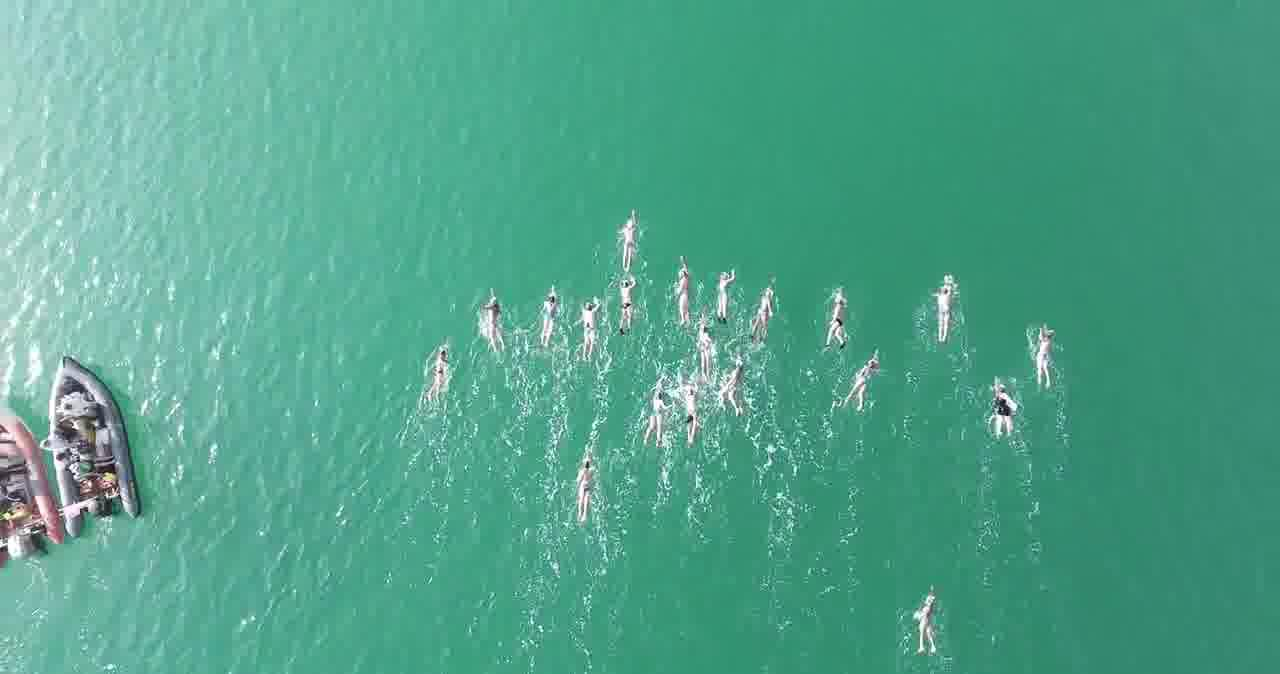human: (472, 288, 519, 348), (416, 340, 458, 404), (562, 455, 602, 516), (1029, 313, 1060, 384), (931, 272, 965, 335), (613, 217, 649, 263), (689, 330, 722, 376), (710, 266, 740, 316), (911, 591, 939, 643), (530, 282, 554, 341), (669, 260, 694, 314), (982, 380, 1007, 430), (680, 385, 702, 437), (761, 279, 781, 336), (848, 360, 877, 398), (728, 352, 748, 405), (646, 384, 665, 438), (828, 291, 852, 332), (577, 297, 593, 354), (609, 276, 626, 326)
